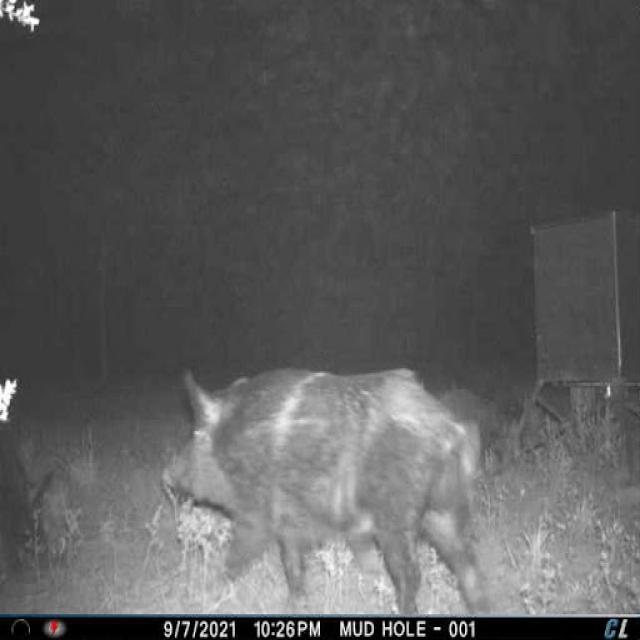wild boar: (155, 357, 496, 614)
